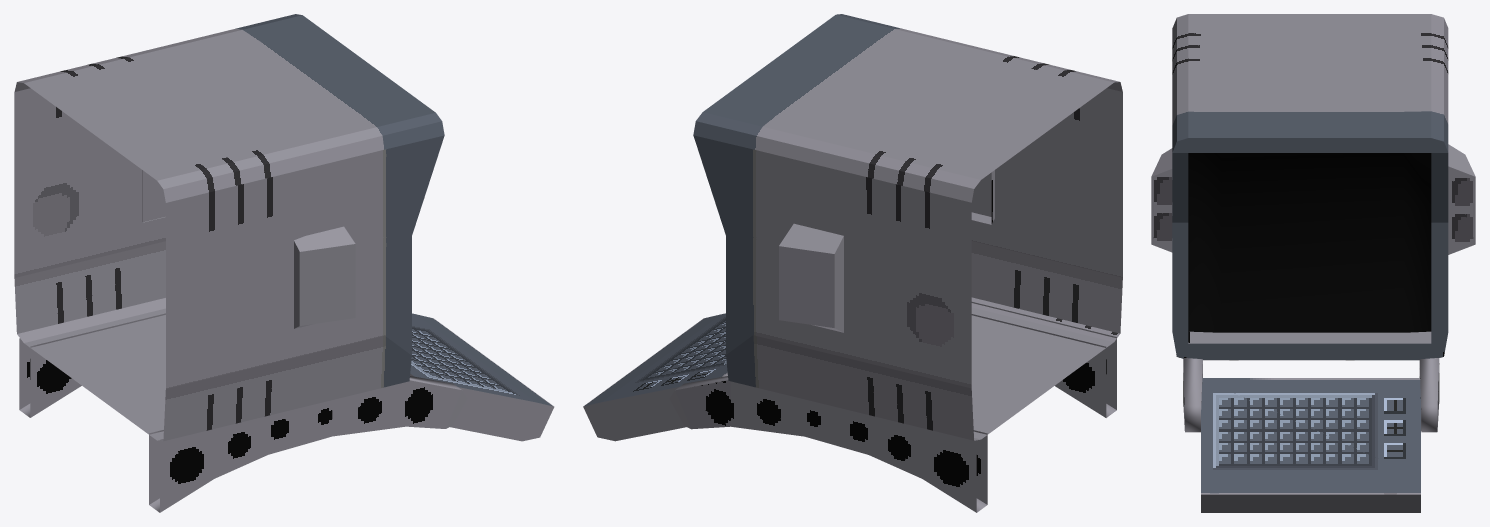
The model's file is terminal.glb.
3 renders of one model, left to right at view 1: azimuth 30°, elevation 25°; view 2: azimuth 150°, elevation 25°; view 3: azimuth 270°, elevation 25°, orthographic. The views are drawn at different scales.
Parts seen in each view (by area): view 1: terminal; view 2: terminal; view 3: terminal.
Boxes of the visible parts, x1=… form: terminal: x1=14, y1=14, x2=554, y2=512; terminal: x1=583, y1=14, x2=1122, y2=512; terminal: x1=1151, y1=14, x2=1475, y2=512.
Size of the model in its own units: 3.08 by 2.6 by 2.35.
Materials: 2 (1 with a texture image).
